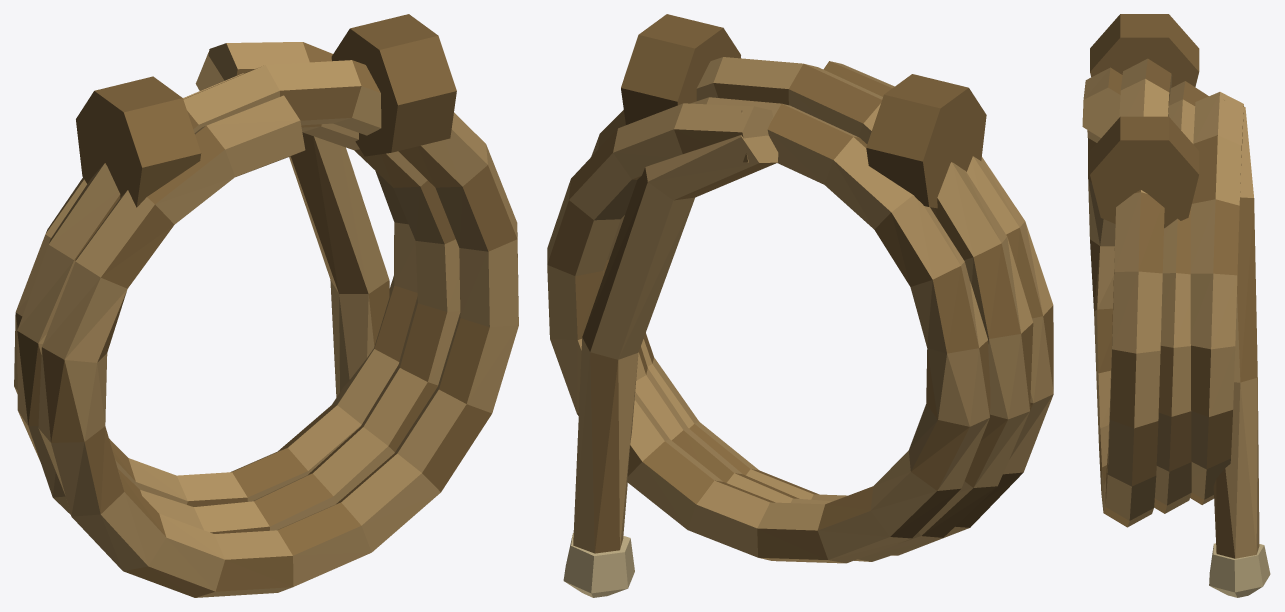
Rendered from held_rope.glb.
3 views of the same model, side by side, from view 1: azimuth 30°, elevation 25°; view 2: azimuth 150°, elevation 25°; view 3: azimuth 270°, elevation 25° (orthographic). The views are drawn at different scales.
Parts seen in each view (by area): view 1: held_rope; view 2: held_rope; view 3: held_rope.
Part boxes in pixels (left/top/right/bottom): held_rope: left=14, top=14, right=518, bottom=597; held_rope: left=547, top=14, right=1053, bottom=597; held_rope: left=1082, top=14, right=1270, bottom=597.
Size of the model in its own units: 0.492 by 0.5345 by 0.2012.
